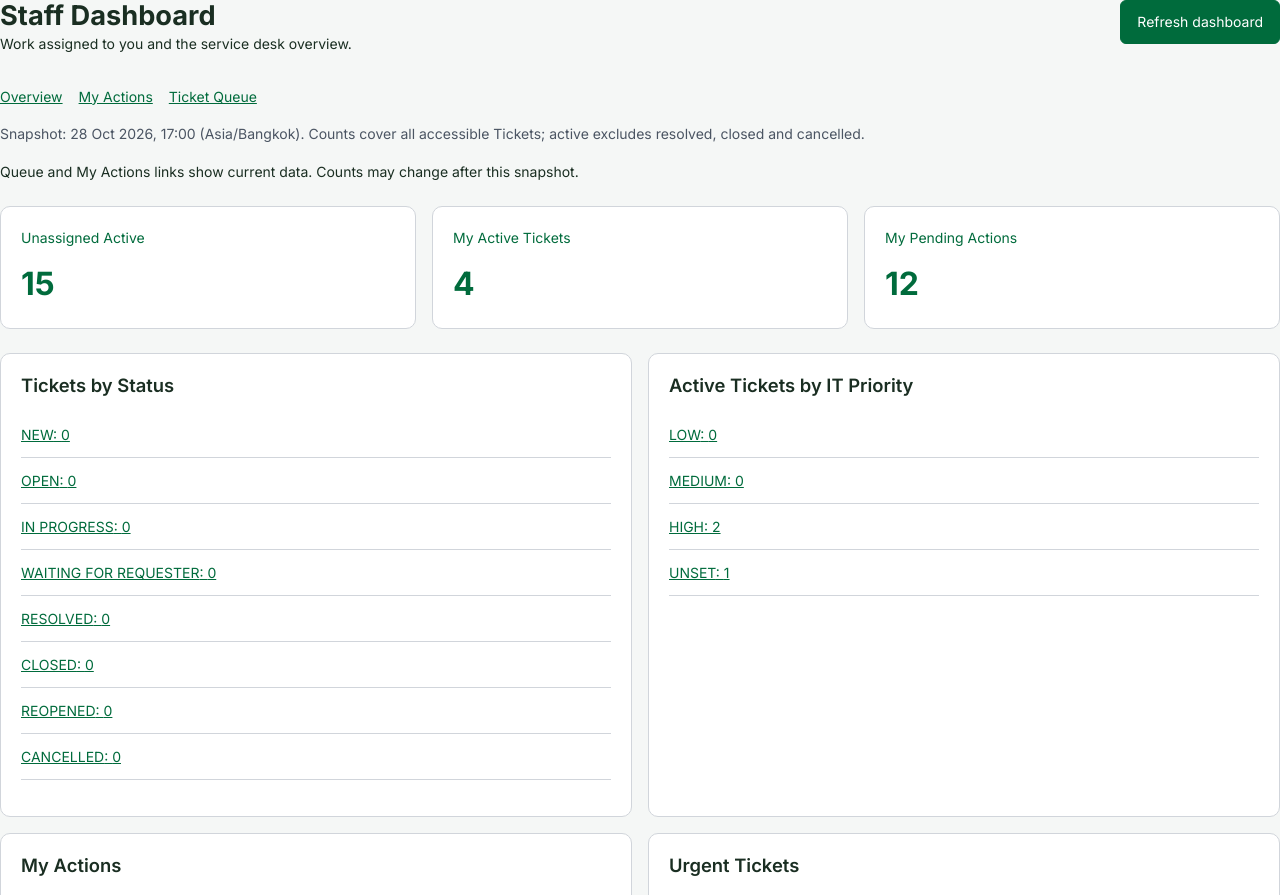
Staff Dashboard › clears stale counts on authorization failure 401
This screenshot has width=1280, height=895.
Expected: the link with aria-label "My Active Tickets: 4" is shown, [432,206,848,329]
What coordinates should you click on to do the following:
click the button "Refresh dashboard"
I would click on:
 (1200, 22)
Its box is [1120,0,1279,44].
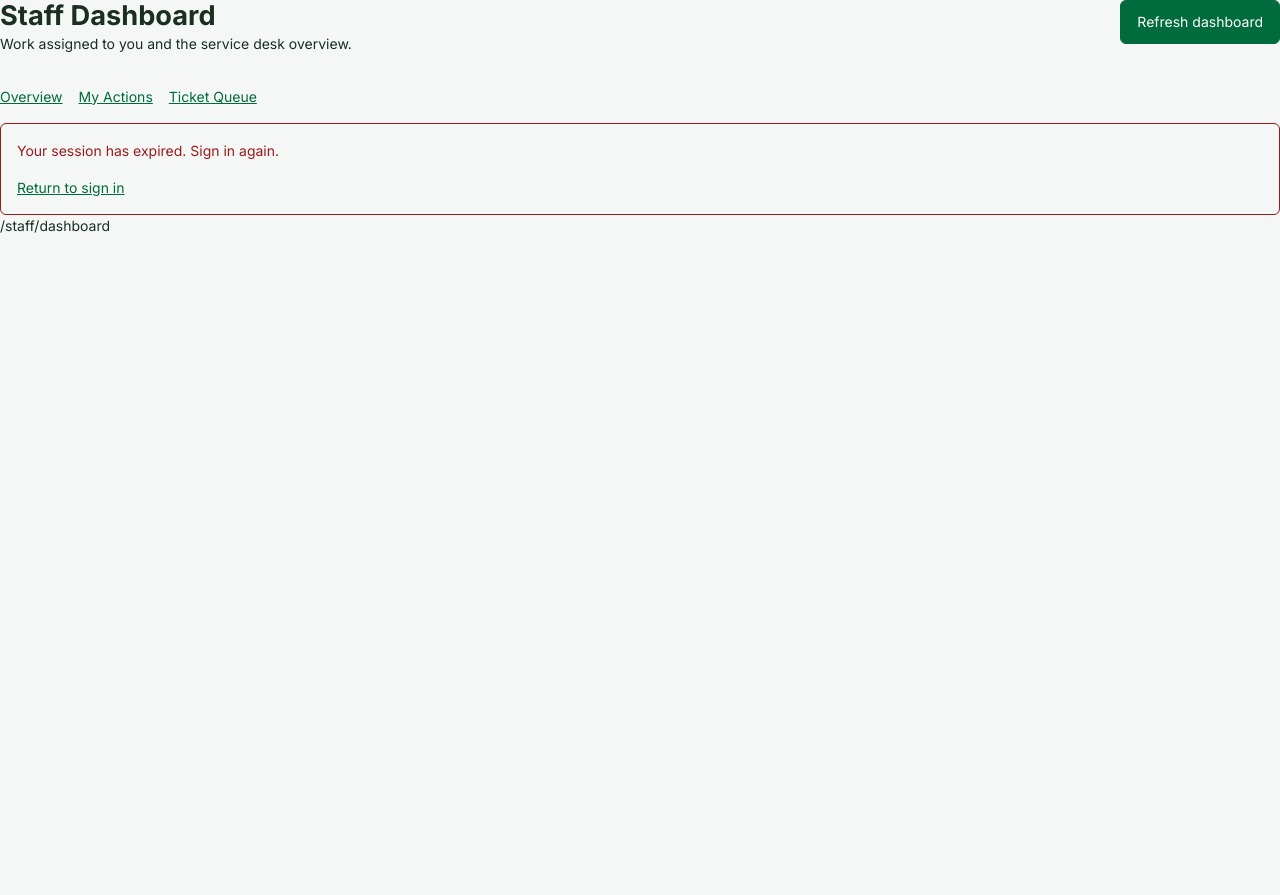
Result: the message "Your session has expired. Sign in again. Return to sign in" is shown at [0,123,1279,215]
